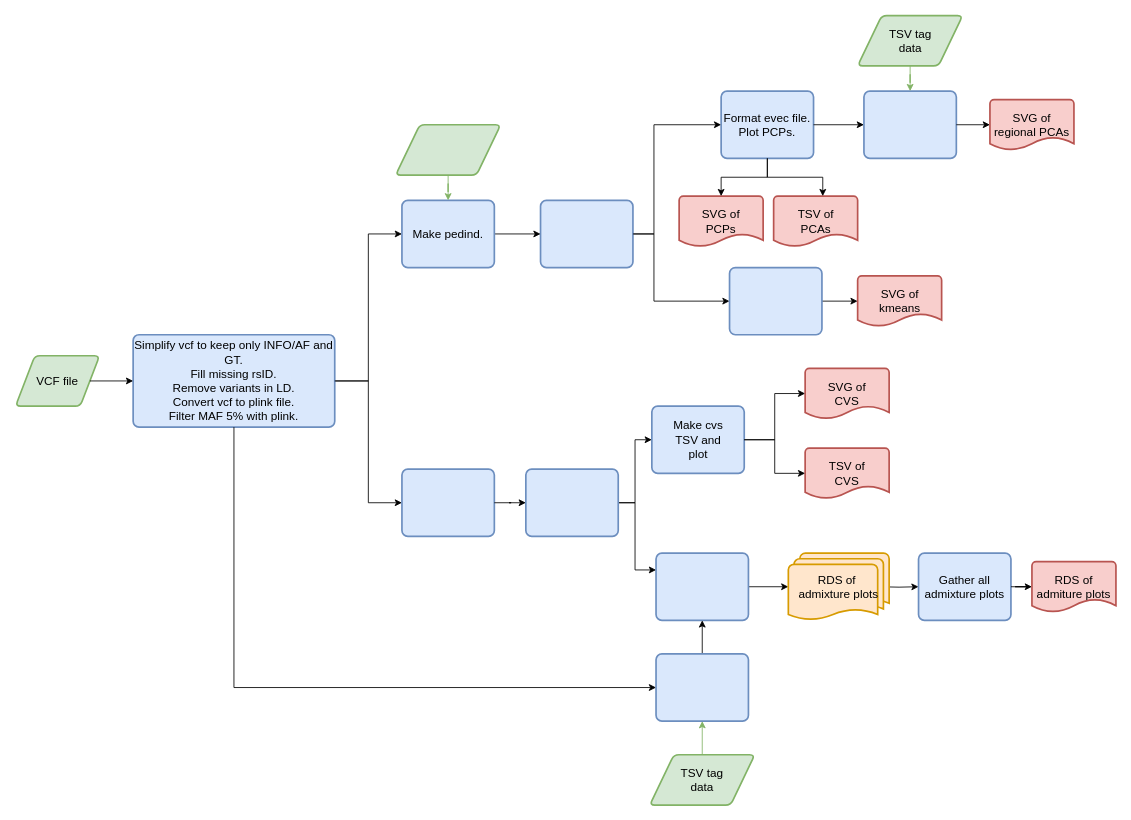
This 1131x820 diagram has some shape labels left out. The centre of each missing label's shape, as x and y in pixels:
Keep autosomal chromosomes: point (448, 502)
Kmeans analysis: point (775, 300)
Make par file. Run smartpca. Get best snps.: point (586, 233)
Make pop_info: point (702, 687)
Plot Q file of admixture: point (702, 586)
Plot regional PCAs: point (910, 124)
Run admixture: point (572, 502)
TXT samples file: point (447, 149)
